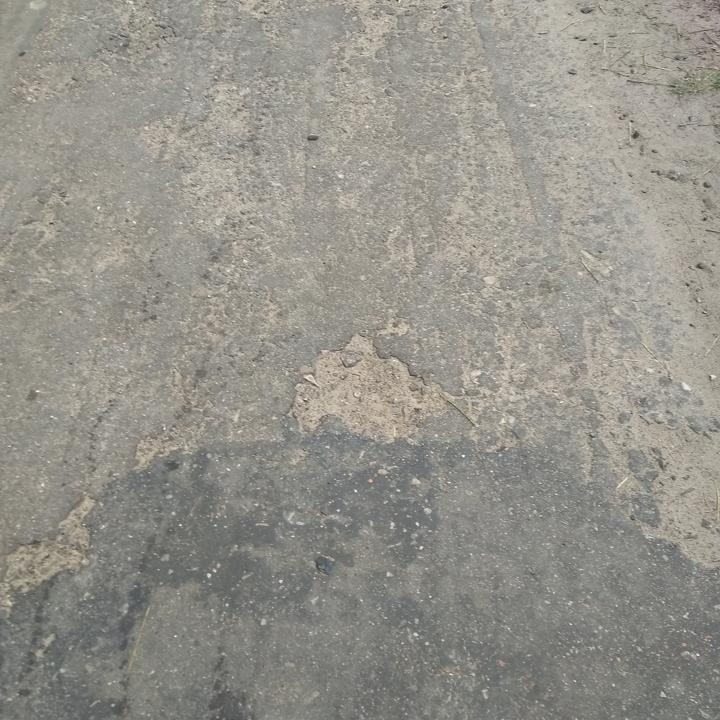pothole: (285, 325, 431, 442), (0, 539, 82, 588)
